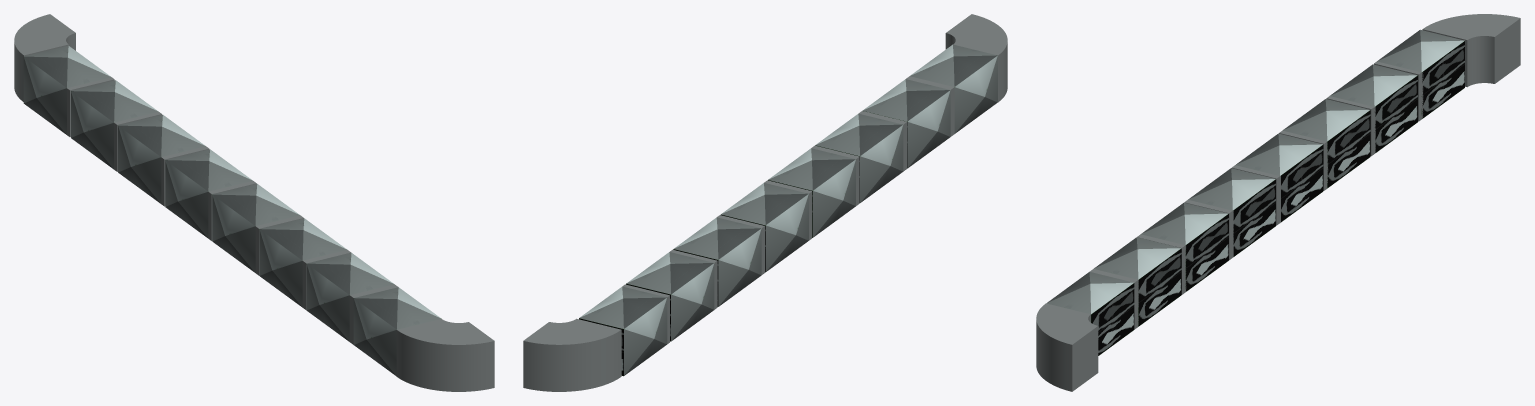
File: Ducto.fbx
3 views of the same model, side by side, from view 1: azimuth 30°, elevation 25°; view 2: azimuth 150°, elevation 25°; view 3: azimuth 330°, elevation 25° (orthographic).
Parts seen in each view (by area): view 1: Box063, Box088, Box047, Box087, Box089, Box085, Box086, Box091, Box090, Box062, Box048, Box052 (+3 smaller); view 2: Box062, Box091, Box090, Box089, Box086, Box088, Box087, Box085, Box047, Box063, Box048; view 3: Box063, Box062, Box085, Box089, Box086, Box088, Box087, Box090, Box091, Box047, Box058, Box060 (+5 smaller).
Boxes of the visible parts, x1,y1,x2,y2 form: Box063: [396, 319, 494, 391]; Box088: [165, 149, 252, 238]; Box047: [353, 287, 441, 376]; Box087: [212, 183, 299, 272]; Box089: [118, 114, 205, 203]; Box085: [306, 252, 394, 341]; Box086: [259, 218, 347, 307]; Box091: [23, 45, 111, 134]; Box090: [71, 80, 158, 169]; Box062: [14, 14, 75, 101]; Box048: [349, 284, 398, 344]; Box052: [255, 215, 303, 275]; Box062: [523, 318, 621, 391]; Box091: [579, 286, 667, 376]; Box090: [626, 252, 714, 341]; Box089: [673, 217, 761, 306]; Box086: [815, 113, 903, 202]; Box088: [720, 183, 808, 272]; Box087: [768, 148, 855, 237]; Box085: [862, 79, 950, 168]; Box047: [910, 44, 997, 133]; Box063: [945, 14, 1007, 102]; Box048: [906, 76, 954, 136]; Box063: [1036, 303, 1098, 391]; Box062: [1422, 14, 1520, 87]; Box085: [1093, 237, 1181, 326]; Box089: [1282, 99, 1370, 188]; Box086: [1141, 202, 1228, 291]; Box088: [1235, 133, 1323, 222]; Box087: [1188, 168, 1275, 256]; Box090: [1330, 64, 1417, 152]; Box091: [1377, 29, 1464, 118]; Box047: [1046, 272, 1134, 355]; Box058: [1326, 96, 1375, 156]; Box060: [1374, 61, 1423, 121].
Size of the model in its own units: 28.92 by 25.15 by 310.
2 materials, 2 textured.
